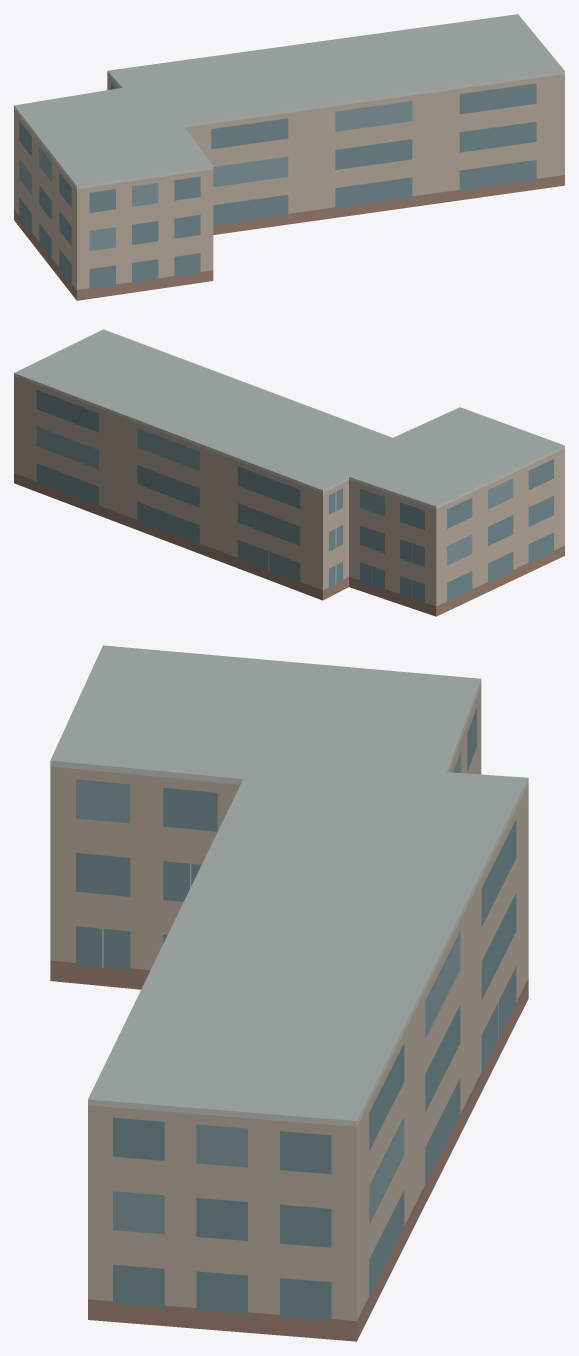
Rendered from survey-upis-32802705.glb.
3 renders of one model, top to bottom at view 1: azimuth 30°, elevation 25°; view 2: azimuth 150°, elevation 25°; view 3: azimuth 270°, elevation 25°, orthographic. The views are drawn at different scales.
Parts seen in each view (by area): view 1: survey-upis-32802705.tmp; view 2: survey-upis-32802705.tmp; view 3: survey-upis-32802705.tmp.
Boxes of the visible parts, left/top/right/bottom form: survey-upis-32802705.tmp: left=14, top=14, right=564, bottom=300; survey-upis-32802705.tmp: left=14, top=329, right=564, bottom=616; survey-upis-32802705.tmp: left=50, top=645, right=528, bottom=1341.
Size of the model in its own units: 42.36 by 9.15 by 18.01.
